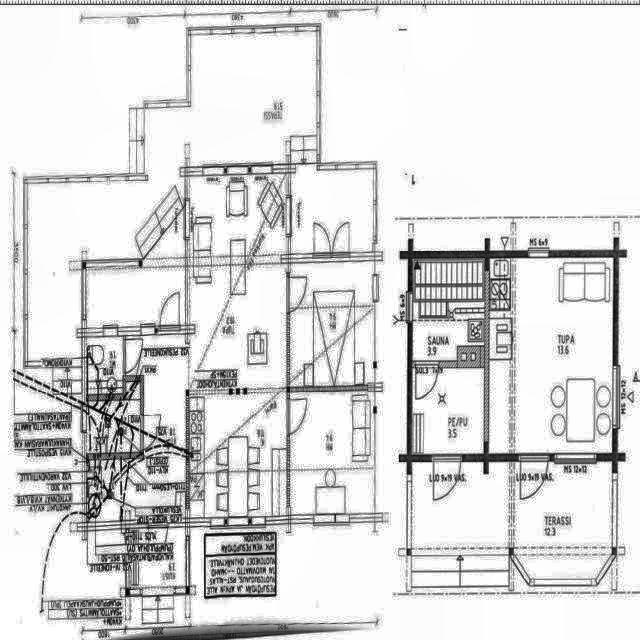room: (412, 258, 485, 360), (412, 368, 484, 454)
